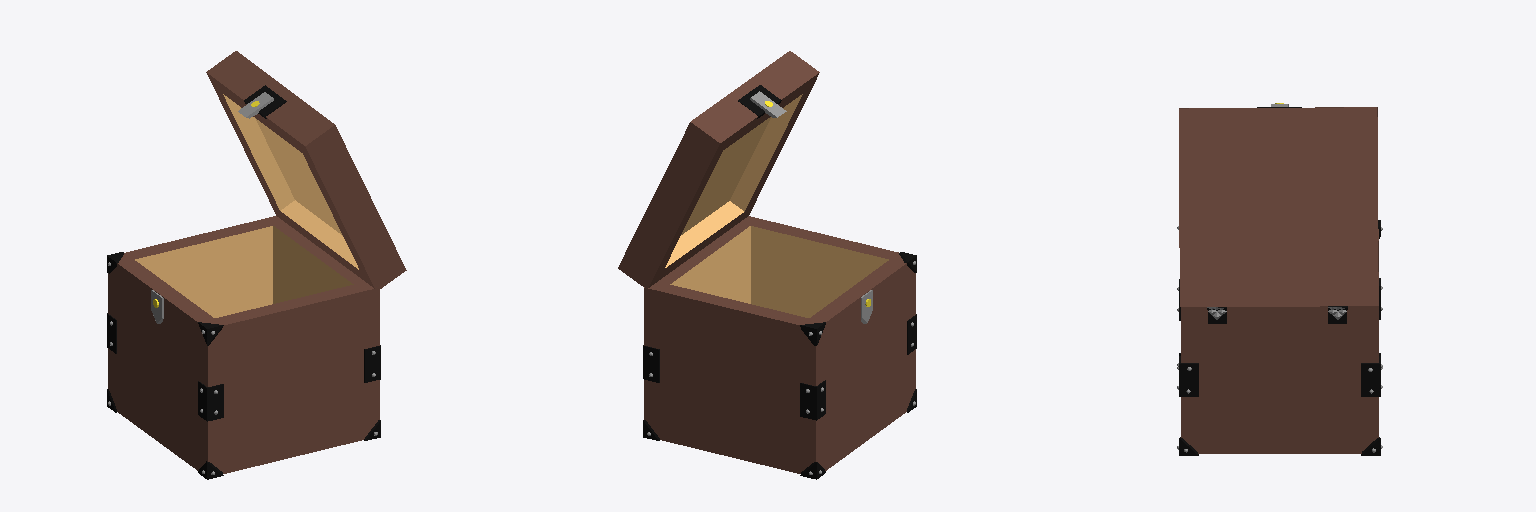
The picture shows the model from 3 angles: view 1: azimuth 30°, elevation 25°; view 2: azimuth 150°, elevation 25°; view 3: azimuth 270°, elevation 25°; orthographic projection.
Parts seen in each view (by area): view 1: group[number redacted], group[number redacted], group[number redacted], group[number redacted], group[number redacted], group[number redacted], group[number redacted], group[number redacted], group[number redacted], group[number redacted], group[number redacted], group[number redacted]; view 2: group[number redacted], group[number redacted], group[number redacted], group[number redacted], group[number redacted], group[number redacted], group[number redacted], group[number redacted], group[number redacted], group[number redacted], group[number redacted], group[number redacted]; view 3: group[number redacted], group[number redacted], group[number redacted], group[number redacted], group[number redacted].
Boxes of the visible parts, <box> form: group[number redacted]: <box>215,285,362,456</box>; group[number redacted]: <box>108,253,223,460</box>; group[number redacted]: <box>126,219,272,317</box>; group[number redacted]: <box>221,51,406,280</box>; group[number redacted]: <box>265,216,379,422</box>; group[number redacted]: <box>108,388,379,473</box>; group[number redacted]: <box>296,129,390,291</box>; group[number redacted]: <box>206,62,294,222</box>; group[number redacted]: <box>280,200,364,280</box>; group[number redacted]: <box>216,69,310,152</box>; group[number redacted]: <box>198,381,223,421</box>; group[number redacted]: <box>364,345,380,382</box>; group[number redacted]: <box>661,285,808,456</box>; group[number redacted]: <box>800,253,915,460</box>; group[number redacted]: <box>751,219,898,317</box>; group[number redacted]: <box>618,51,804,278</box>; group[number redacted]: <box>644,216,758,422</box>; group[number redacted]: <box>644,388,915,473</box>; group[number redacted]: <box>633,126,729,287</box>; group[number redacted]: <box>730,62,819,222</box>; group[number redacted]: <box>659,201,743,279</box>; group[number redacted]: <box>715,68,809,149</box>; group[number redacted]: <box>800,380,825,420</box>; group[number redacted]: <box>643,345,659,382</box>; group[number redacted]: <box>1179,107,1378,306</box>; group[number redacted]: <box>1181,306,1378,436</box>; group[number redacted]: <box>1181,437,1378,453</box>; group[number redacted]: <box>1179,356,1198,396</box>; group[number redacted]: <box>1361,356,1380,396</box>.
Size of the model in its own units: 2.08 by 3.2 by 1.83.